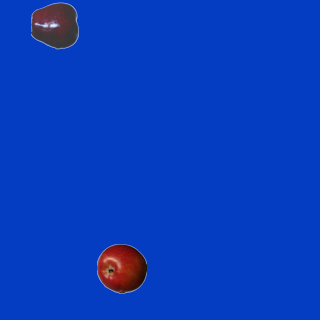Apple Braeburn: (96, 243, 146, 293)
Apple Red Delicious: (30, 0, 80, 50)
